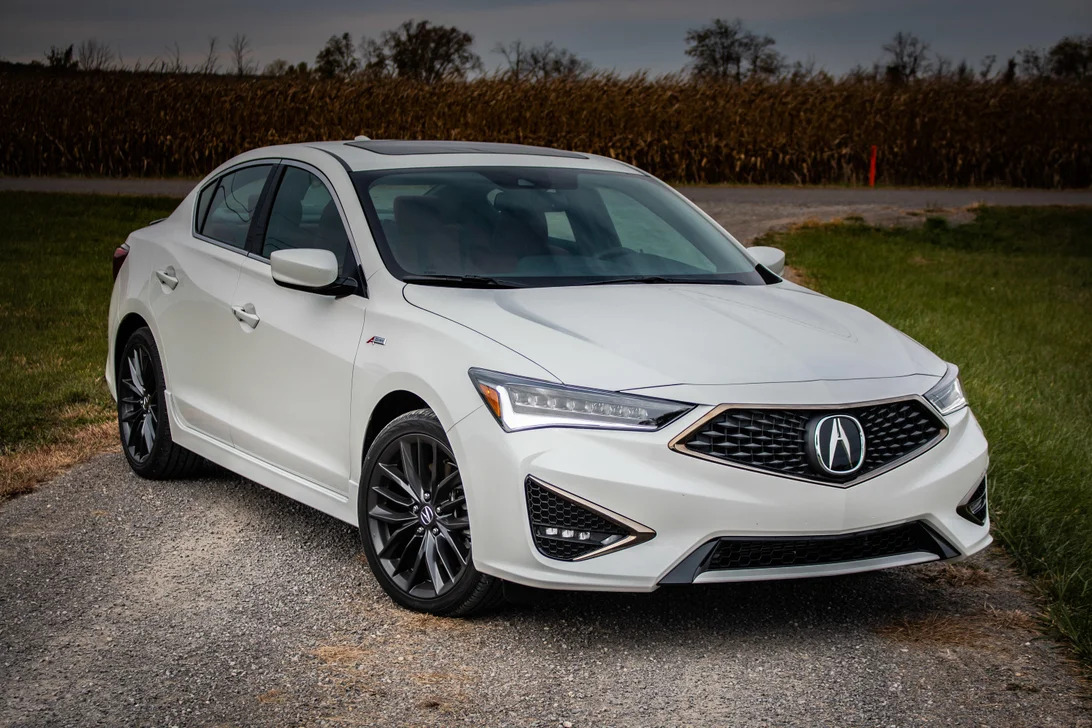Fog Lamp & Scope: (530, 496, 625, 557)
Front: (381, 296, 997, 586)
Front Bumper: (464, 482, 996, 574)
Grill: (690, 412, 937, 478)
Headlight: (468, 373, 677, 436)
